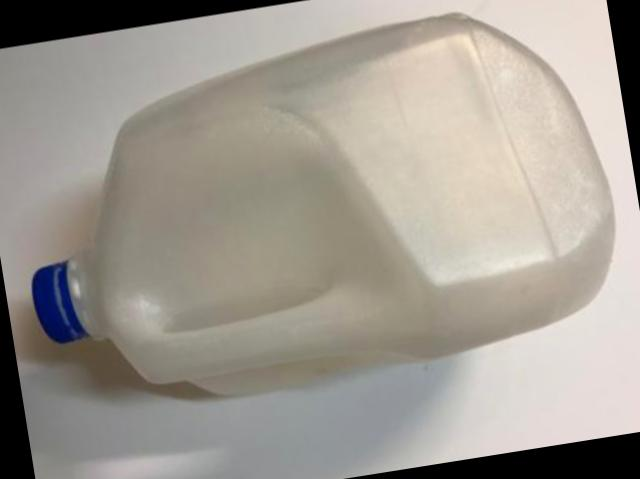plastic: (34, 15, 615, 396)
